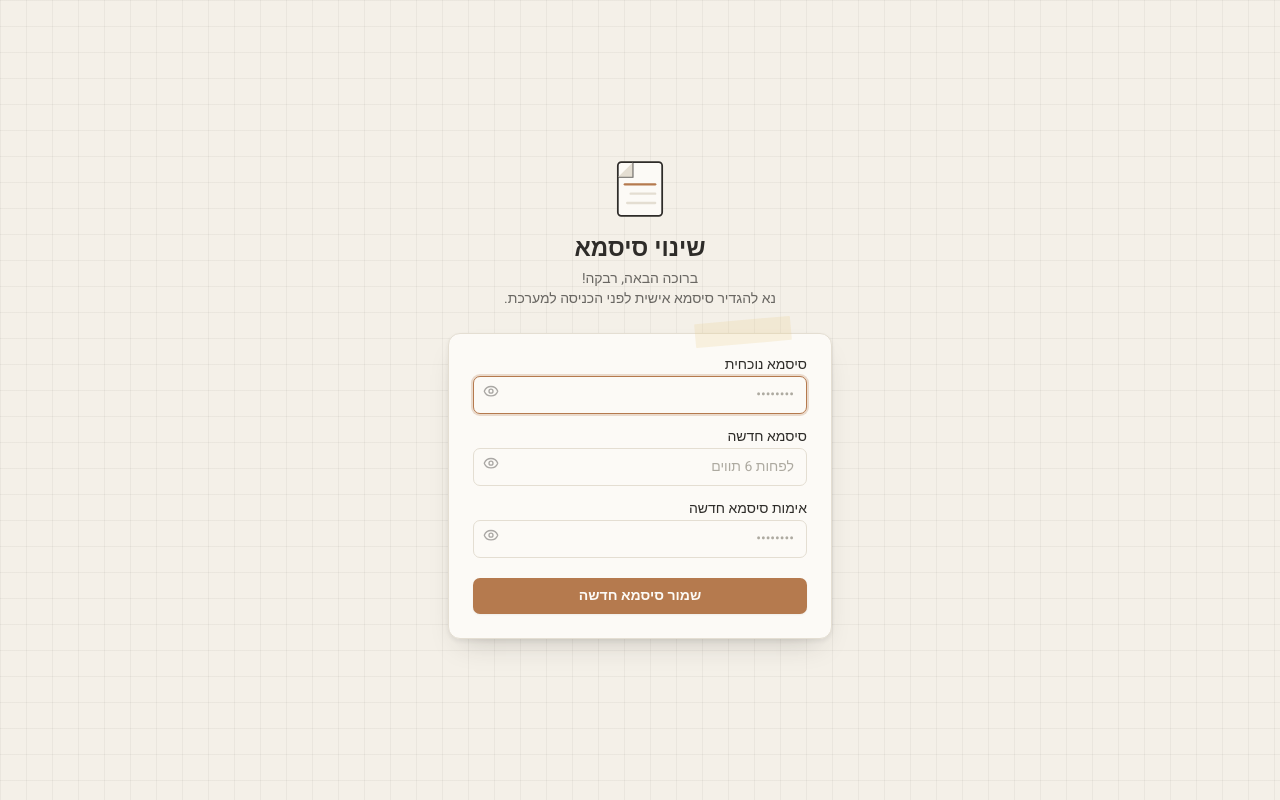
Test: ChangePasswordPage › validates minimum length
In the password field labelled "סיסמא נוכחית": point(640, 395) [473, 376, 807, 414], type "oldpass"
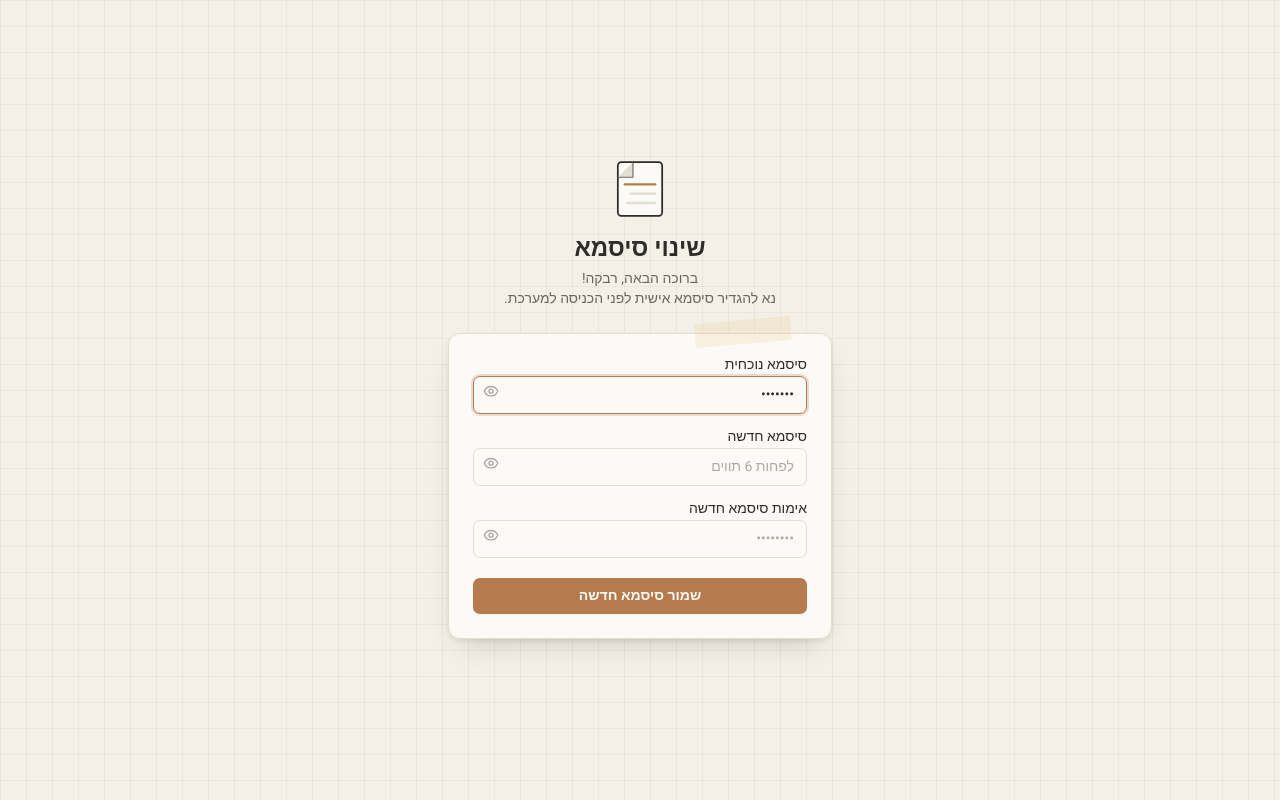
In the password field labelled "סיסמא חדשה": point(640, 467) [473, 448, 807, 486], type "123"
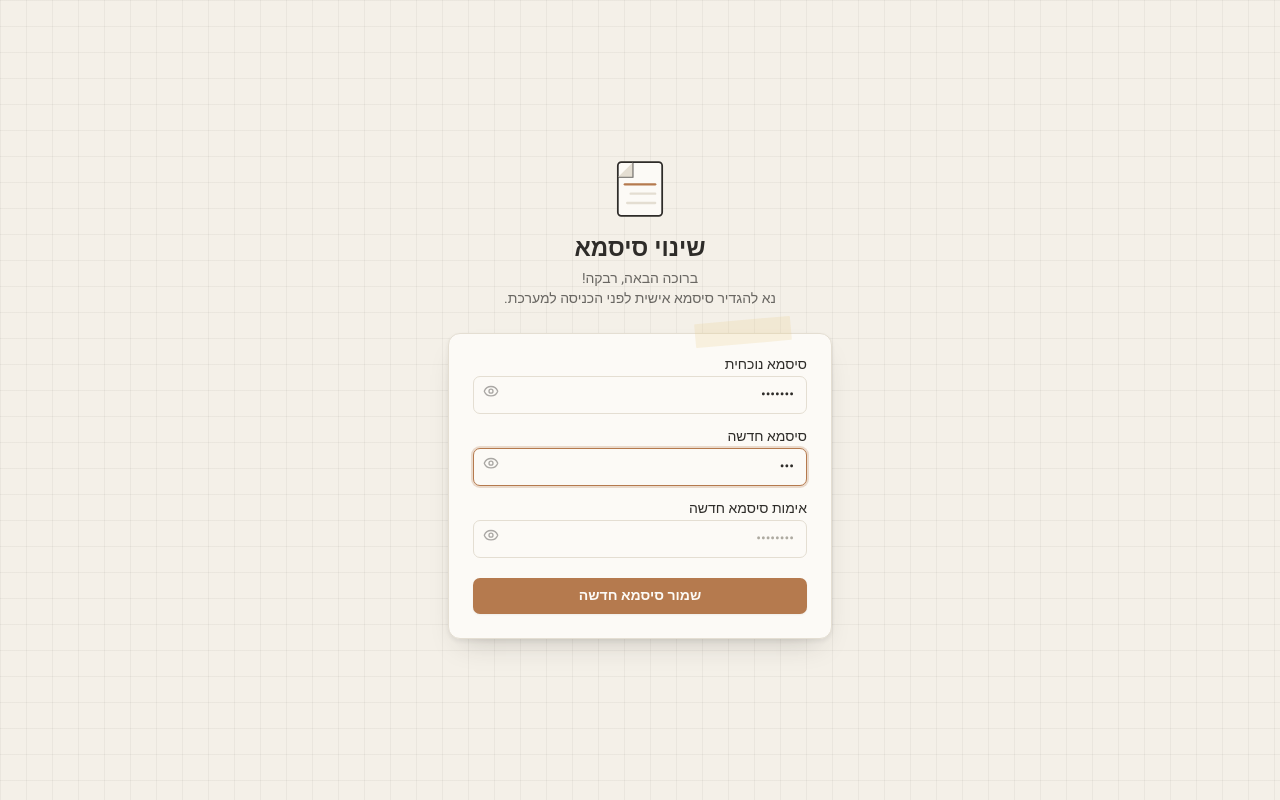
In the password field labelled "אימות סיסמא חדשה": point(640, 539) [473, 520, 807, 558], type "123"
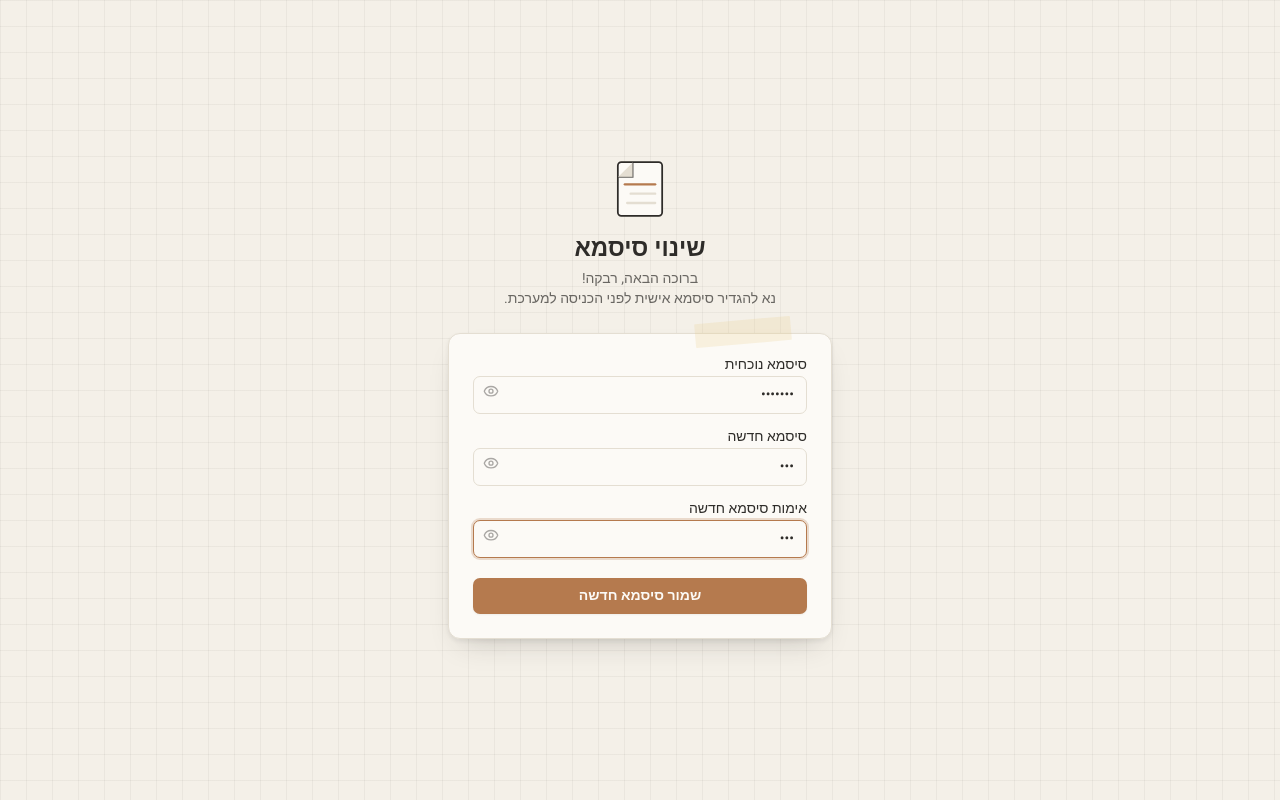
Click the button "שמור סיסמא חדשה": point(640, 596) [473, 578, 807, 614]
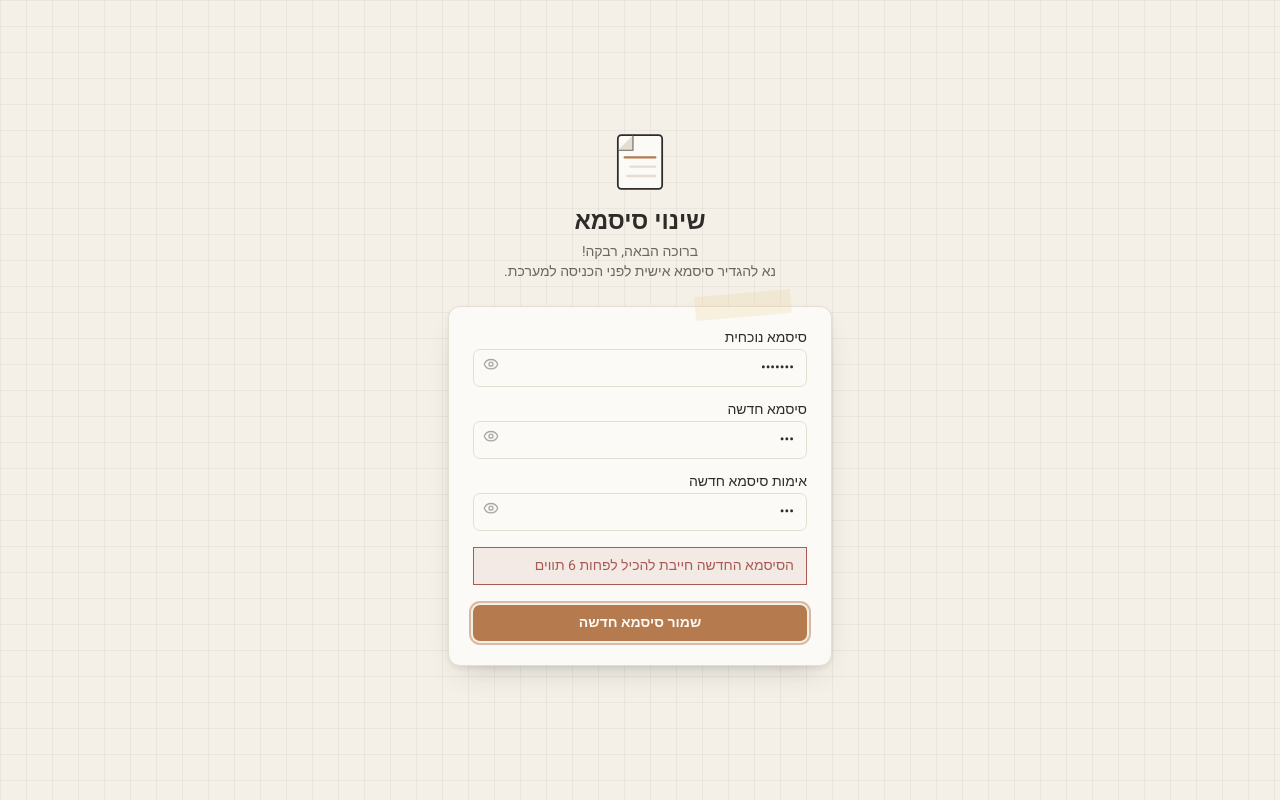
Result: the text "הסיסמא החדשה חייבת להכיל לפחות 6 תווים" is shown at [473, 547, 807, 585]
